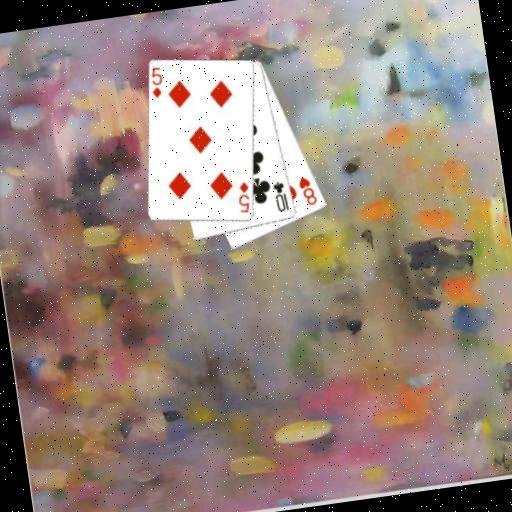10C: (270, 178, 291, 214)
5D: (232, 179, 254, 216), (146, 64, 167, 101)
8H: (295, 172, 320, 208)
